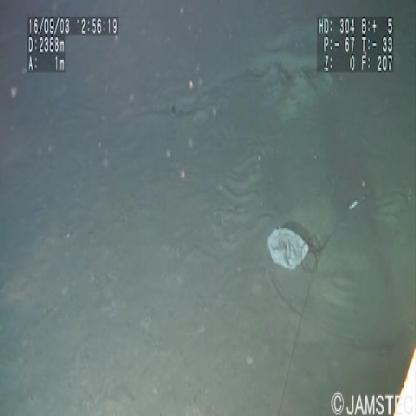Rác: (263, 220, 312, 276)
